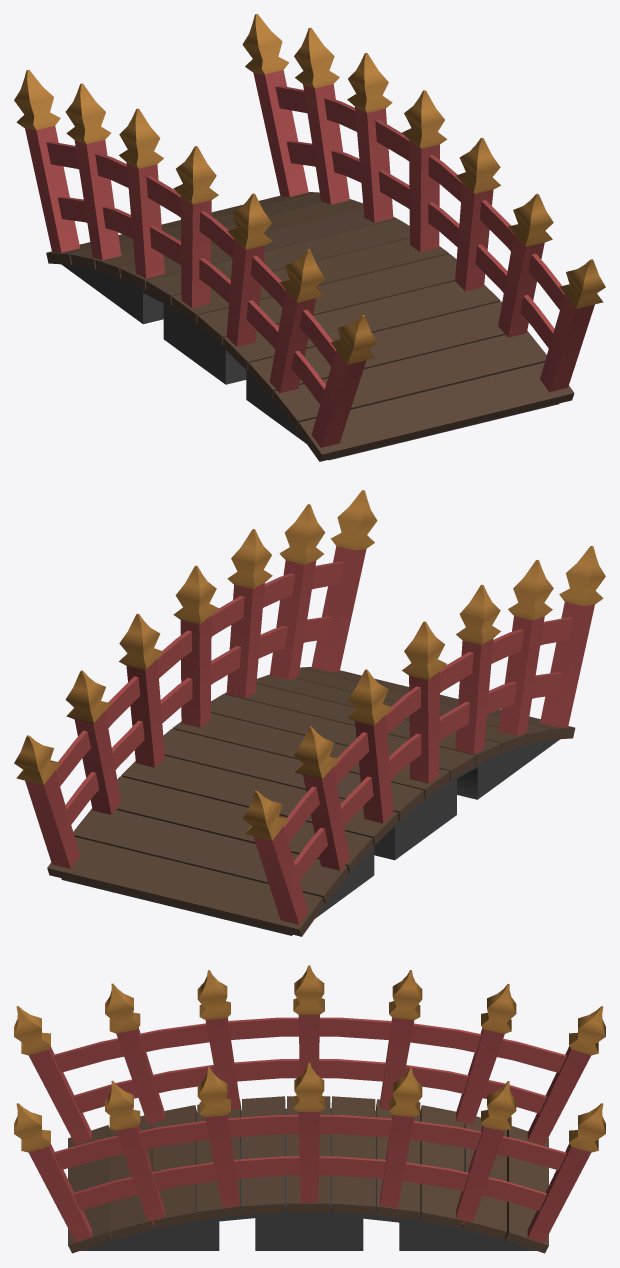
File: FMP_Bridge_Small_Shaded.fbx
The picture shows the model from 3 angles, top to bottom: view 1: azimuth 30°, elevation 25°; view 2: azimuth 150°, elevation 25°; view 3: azimuth 270°, elevation 25°; orthographic projection. The views are drawn at different scales.
Parts seen in each view (by area): view 1: pCube39; view 2: pCube39; view 3: pCube39.
Boxes of the visible parts, bbox=[...] form: pCube39: bbox=[14, 14, 605, 461]; pCube39: bbox=[14, 490, 605, 936]; pCube39: bbox=[14, 965, 605, 1253].
Bounding box in the file's own units: 385 × 309 × 883.
